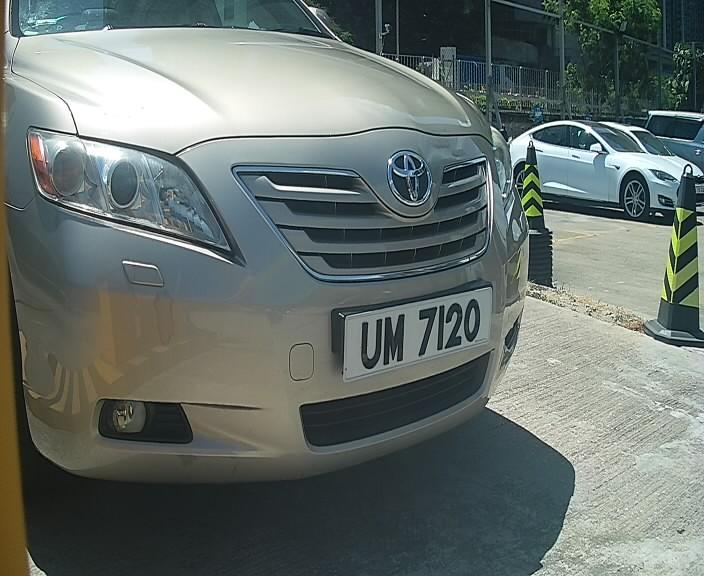privatecar: (38, 42, 544, 492)
